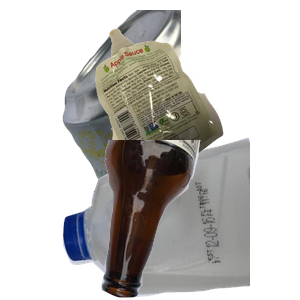glass: (99, 140, 300, 300)
metal: (60, 10, 300, 190)
plastic: (60, 135, 300, 300)
trash: (93, 26, 300, 200)
